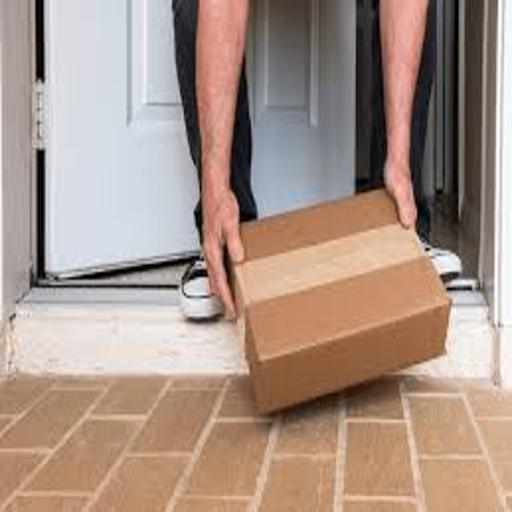Other: (225, 186, 457, 416)
